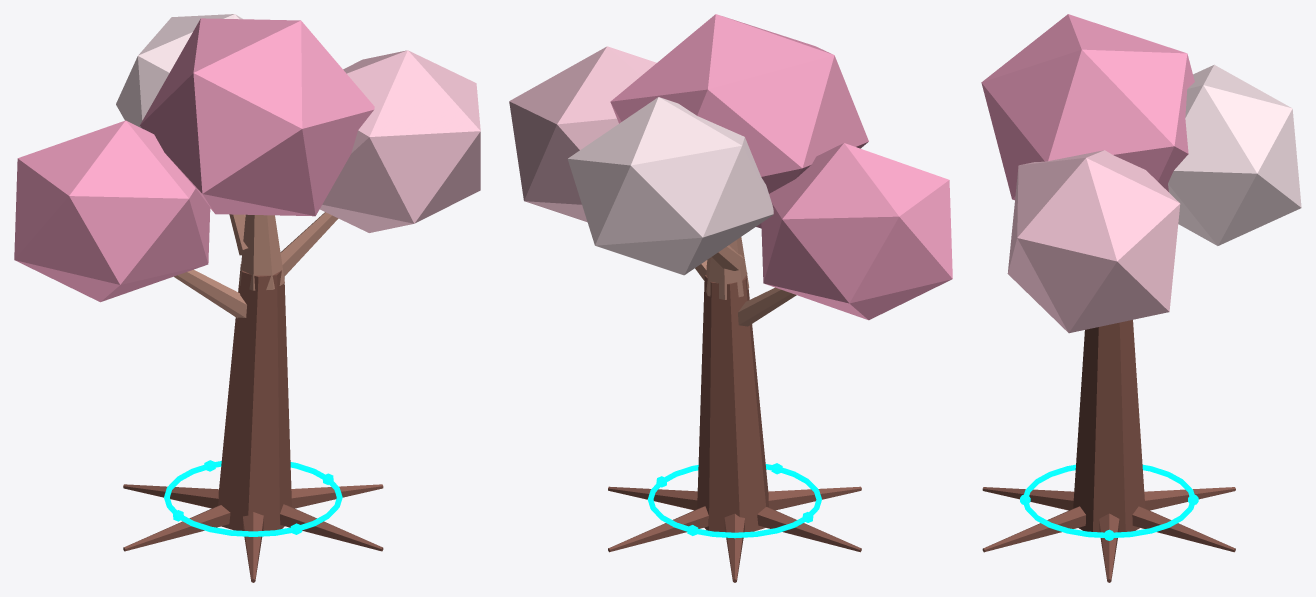
The model's file is growing.glb.
3 renders of one model, left to right at view 1: azimuth 30°, elevation 25°; view 2: azimuth 150°, elevation 25°; view 3: azimuth 270°, elevation 25°, orthographic. The views are drawn at different scales.
Visible parts, largest first — view 1: Blossom_Cloud_04, Blossom_Cloud_01, Blossom_Cloud_02, Trunk_Lower, Blossom_Cloud_03, Trunk_Upper, Chrono_Energy_Ring, Branch_01, Root_04, Root_06, Branch_02, Root_03 (+2 smaller); view 2: Blossom_Cloud_01, Blossom_Cloud_03, Blossom_Cloud_04, Trunk_Lower, Blossom_Cloud_02, Chrono_Energy_Ring, Root_04, Root_02, Trunk_Upper, Root_05, Branch_01, Root_01 (+1 smaller); view 3: Blossom_Cloud_04, Blossom_Cloud_02, Blossom_Cloud_03, Trunk_Lower, Chrono_Energy_Ring, Root_02, Root_06, Root_03, Root_05, Root_01.
Boxes of the visible parts, x1=… form: Blossom_Cloud_04: x1=140, y1=18, x2=374, y2=216; Blossom_Cloud_01: x1=14, y1=120, x2=210, y2=302; Blossom_Cloud_02: x1=320, y1=50, x2=480, y2=232; Trunk_Lower: x1=218, y1=264, x2=291, y2=530; Blossom_Cloud_03: x1=116, y1=14, x2=242, y2=128; Trunk_Upper: x1=239, y1=214, x2=284, y2=290; Chrono_Energy_Ring: x1=164, y1=461, x2=342, y2=536; Branch_01: x1=174, y1=269, x2=246, y2=318; Root_04: x1=123, y1=505, x2=230, y2=551; Root_06: x1=280, y1=504, x2=383, y2=551; Branch_02: x1=280, y1=212, x2=338, y2=276; Root_03: x1=123, y1=484, x2=218, y2=508; Blossom_Cloud_01: x1=761, y1=143, x2=952, y2=320; Blossom_Cloud_03: x1=567, y1=97, x2=773, y2=275; Blossom_Cloud_04: x1=610, y1=14, x2=868, y2=228; Trunk_Lower: x1=697, y1=273, x2=769, y2=531; Blossom_Cloud_02: x1=509, y1=46, x2=656, y2=222; Chrono_Energy_Ring: x1=647, y1=464, x2=821, y2=538; Root_04: x1=757, y1=507, x2=861, y2=552; Root_02: x1=608, y1=506, x2=708, y2=552; Trunk_Upper: x1=706, y1=237, x2=749, y2=299; Root_05: x1=768, y1=486, x2=861, y2=510; Branch_01: x1=738, y1=287, x2=796, y2=326; Root_01: x1=608, y1=486, x2=697, y2=510; Blossom_Cloud_04: x1=981, y1=14, x2=1194, y2=200; Blossom_Cloud_02: x1=1007, y1=150, x2=1180, y2=333; Blossom_Cloud_03: x1=1168, y1=64, x2=1301, y2=245; Trunk_Lower: x1=1073, y1=320, x2=1145, y2=532; Chrono_Energy_Ring: x1=1023, y1=464, x2=1195, y2=537; Root_02: x1=1132, y1=506, x2=1235, y2=552; Root_06: x1=982, y1=506, x2=1085, y2=552; Root_03: x1=1144, y1=487, x2=1235, y2=510; Root_05: x1=982, y1=487, x2=1074, y2=510; Root_01: x1=1099, y1=513, x2=1119, y2=582.
Bounding box in the file's own units: 2.7 × 2.82 × 1.68.
